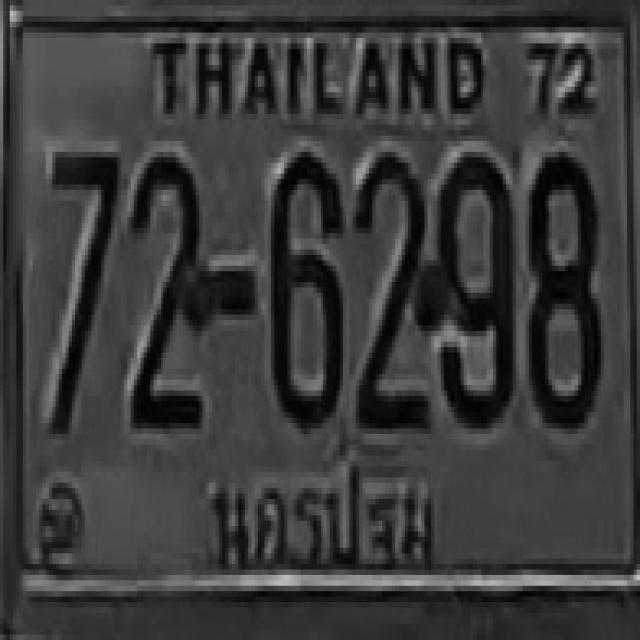2: (129, 149, 204, 426), (354, 149, 426, 426)
6: (268, 146, 340, 423)
7: (48, 146, 120, 428)
8: (526, 146, 598, 423)
9: (433, 149, 511, 420)
NakhonPathom: (212, 450, 444, 585)
